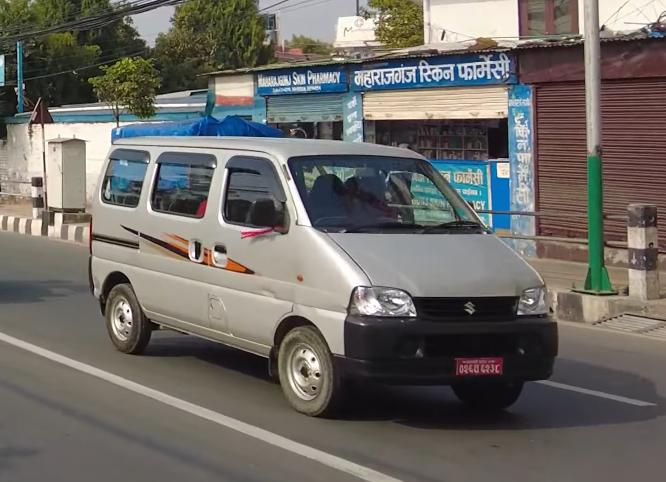van: (94, 100, 554, 427)
